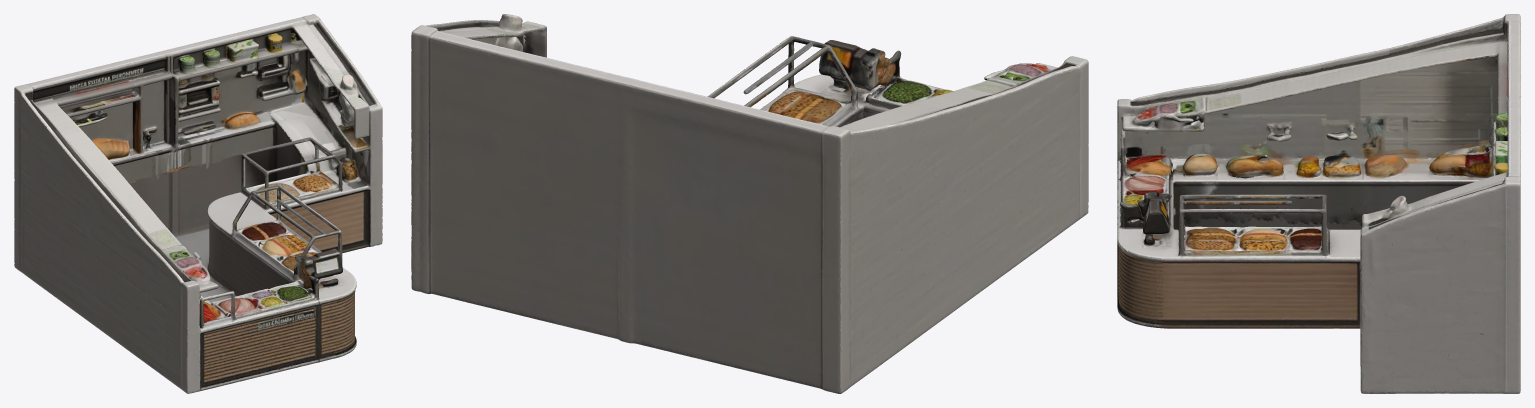
The model's file is background-transformed.glb.
The picture shows the model from 3 angles, left to right: view 1: azimuth 30°, elevation 25°; view 2: azimuth 150°, elevation 25°; view 3: azimuth 270°, elevation 25°; orthographic projection. The views are drawn at different scales.
Visible parts, largest first — view 1: input; view 2: input; view 3: input.
Part boxes in pixels (left/top/right/bottom): input: left=14, top=14, right=382, bottom=393; input: left=411, top=14, right=1088, bottom=393; input: left=1117, top=14, right=1520, bottom=393.
Bounding box in the file's own units: 0.9999 × 0.5761 × 0.9969.
1 material, 1 textured.
